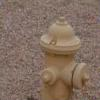Hydrant: (29, 10, 100, 100)
